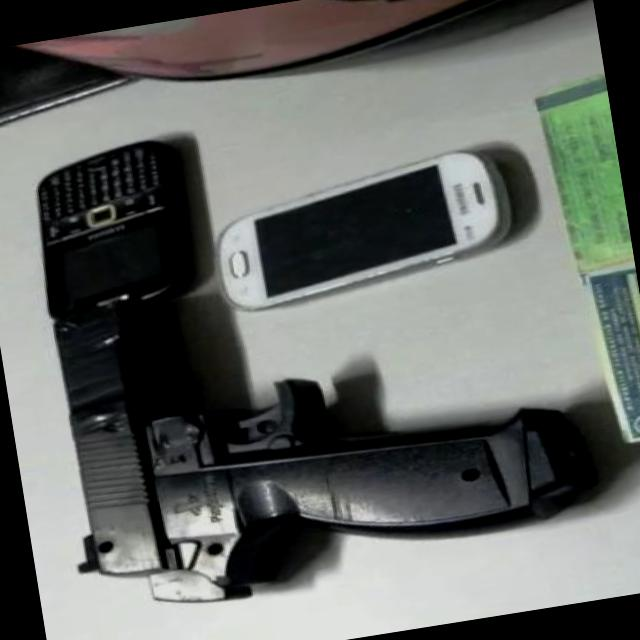handgun: (31, 228, 604, 628)
